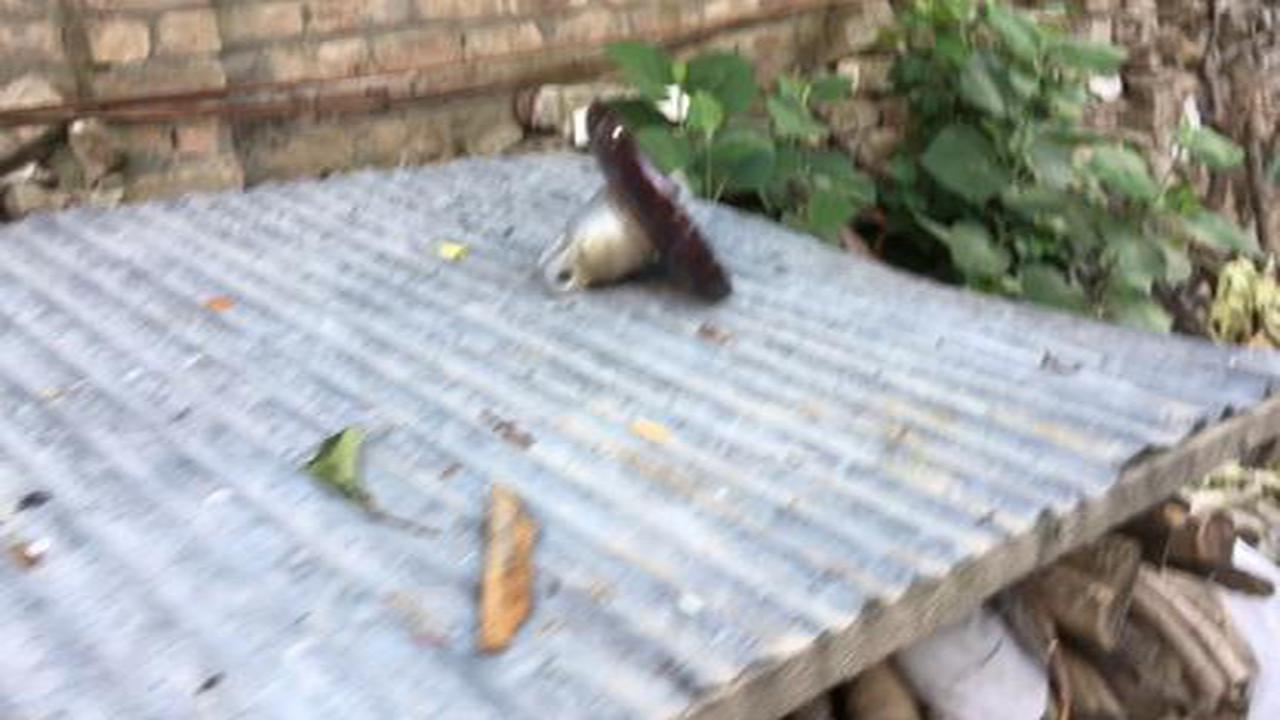insulator_disc: (532, 95, 742, 305)
